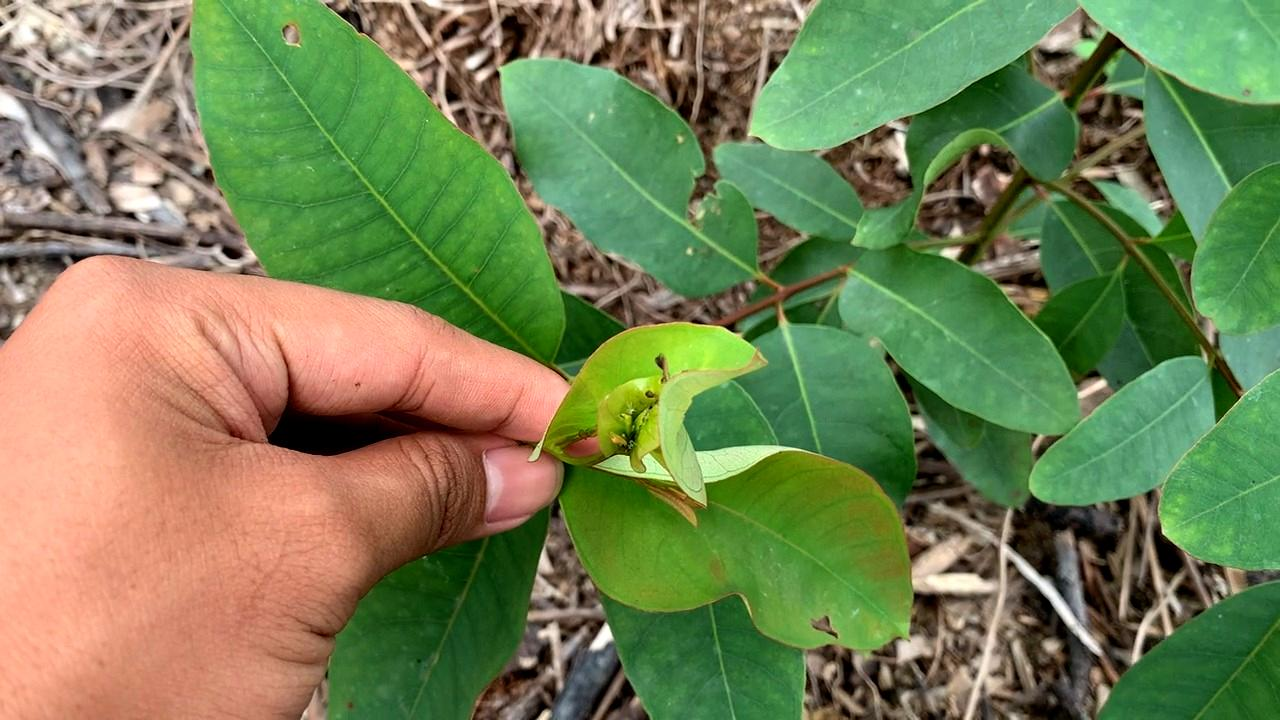Leaf Roller - Leaf: (549, 302, 762, 514)
